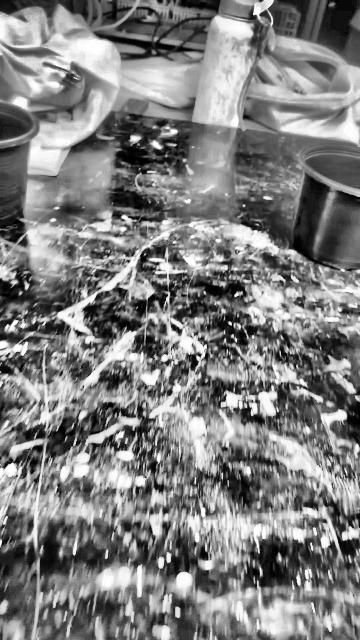pot: (292, 142, 360, 272), (0, 103, 38, 227)
